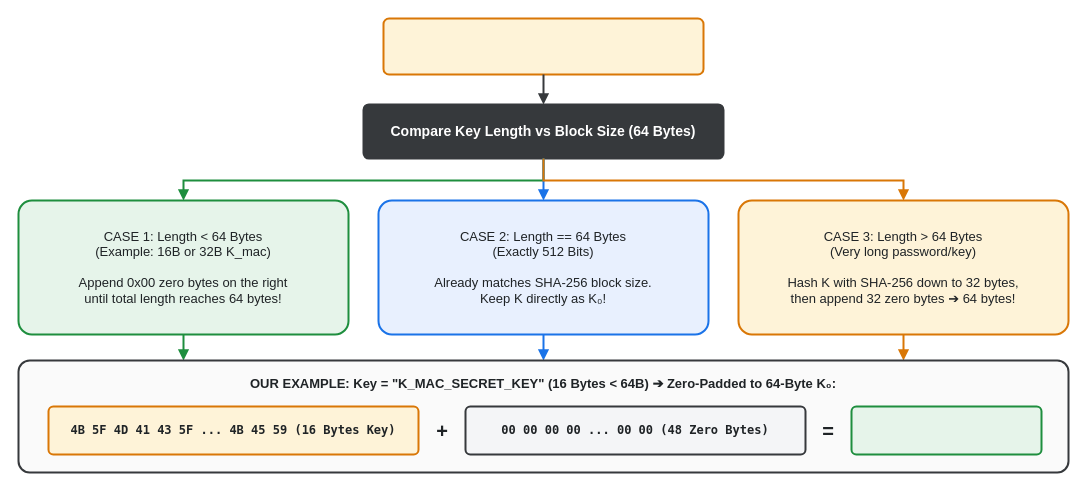
Image size: 1086x490. Some labels were removed from this diagram. Here are the shapes that lost their labels. From the top down, the box of each, then its label:
(382, 17, 704, 75): INPUT SECRET KEY (K)
(850, 405, 1042, 455): K₀ (64 Bytes)
